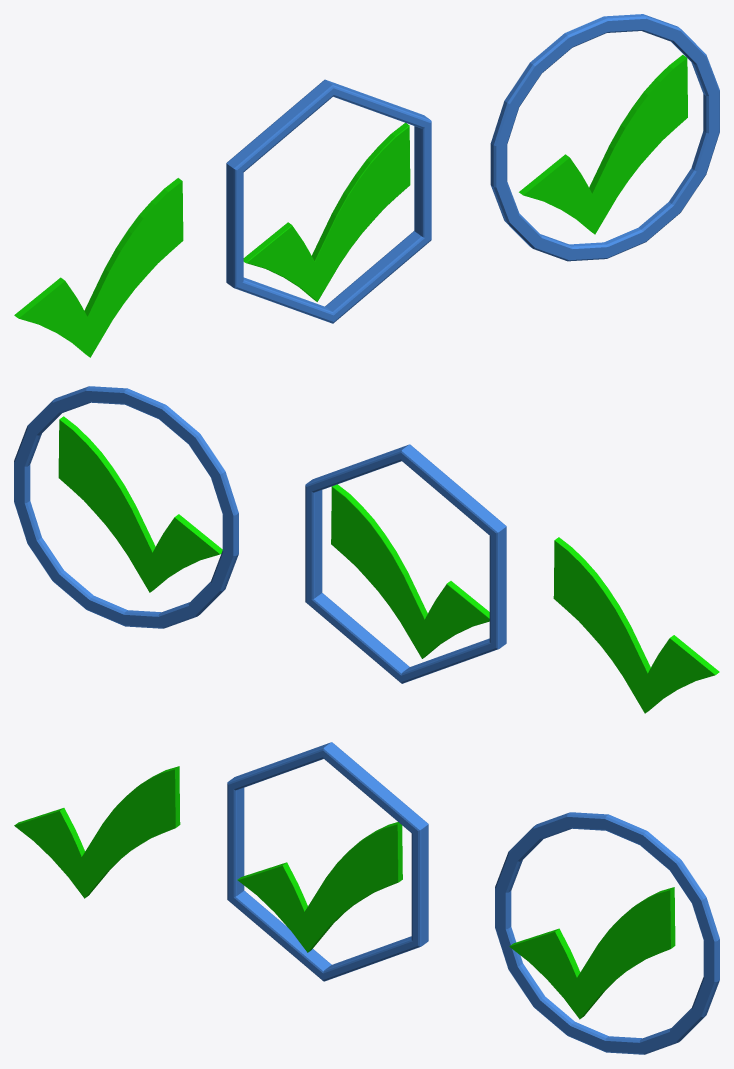
File: uploads_files_2696393_Low_poly_check_mark_10.fbx
3 renders of one model, top to bottom at view 1: azimuth 30°, elevation 25°; view 2: azimuth 150°, elevation 25°; view 3: azimuth 330°, elevation 25°, orthographic.
Visible parts, largest first — view 1: check_mark_3, check_mark_1, check_mark_2; view 2: check_mark_3, check_mark_1, check_mark_2; view 3: check_mark_3, check_mark_1, check_mark_2.
Boxes of the visible parts, box(x1,y1,x2,y2) form: check_mark_3: box(490, 14, 719, 261); check_mark_1: box(226, 79, 431, 323); check_mark_2: box(14, 178, 183, 357); check_mark_3: box(14, 386, 238, 628); check_mark_1: box(305, 444, 506, 683); check_mark_2: box(553, 537, 719, 713); check_mark_3: box(495, 812, 719, 1054); check_mark_1: box(227, 742, 428, 981); check_mark_2: box(14, 766, 180, 898).
Bounding box in the file's own units: 2148 × 716 × 60.45.
